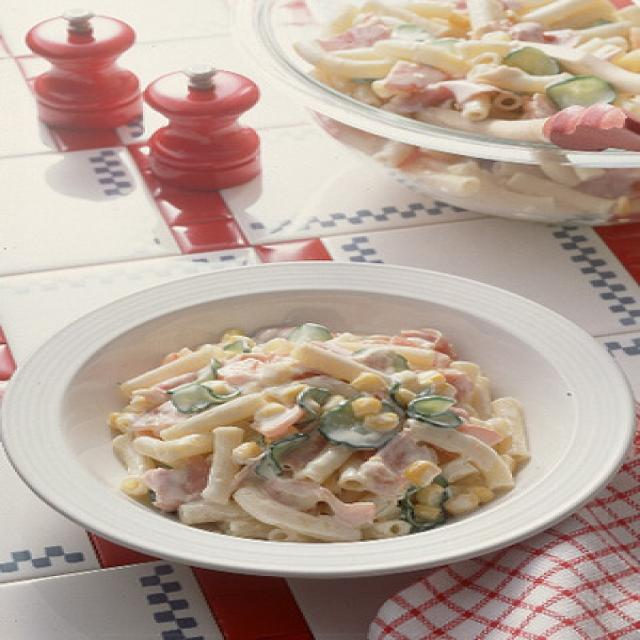蔬菜料理: (6, 265, 628, 576)
